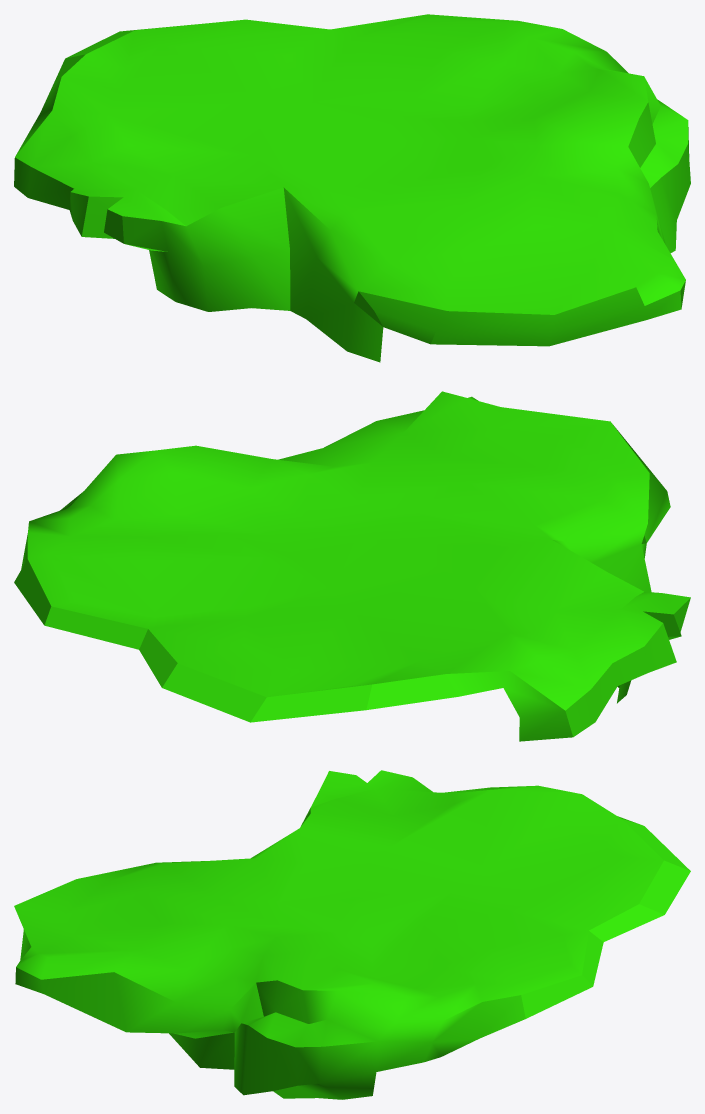
Rendered from Floor_Rock_Pile_Grp_03_Collider.fbx.
The picture shows the model from 3 angles, top to bottom: view 1: azimuth 30°, elevation 25°; view 2: azimuth 150°, elevation 25°; view 3: azimuth 270°, elevation 25°; orthographic projection. The views are drawn at different scales.
Visible parts, largest first — view 1: Floor_Rock_Pile_Grp_03_Collider; view 2: Floor_Rock_Pile_Grp_03_Collider; view 3: Floor_Rock_Pile_Grp_03_Collider.
Boxes of the visible parts, x1,y1,x2,y2 form: Floor_Rock_Pile_Grp_03_Collider: [14, 14, 690, 362]; Floor_Rock_Pile_Grp_03_Collider: [14, 391, 690, 741]; Floor_Rock_Pile_Grp_03_Collider: [14, 770, 690, 1099].
Bounding box in the file's own units: 880 × 208 × 1013.
